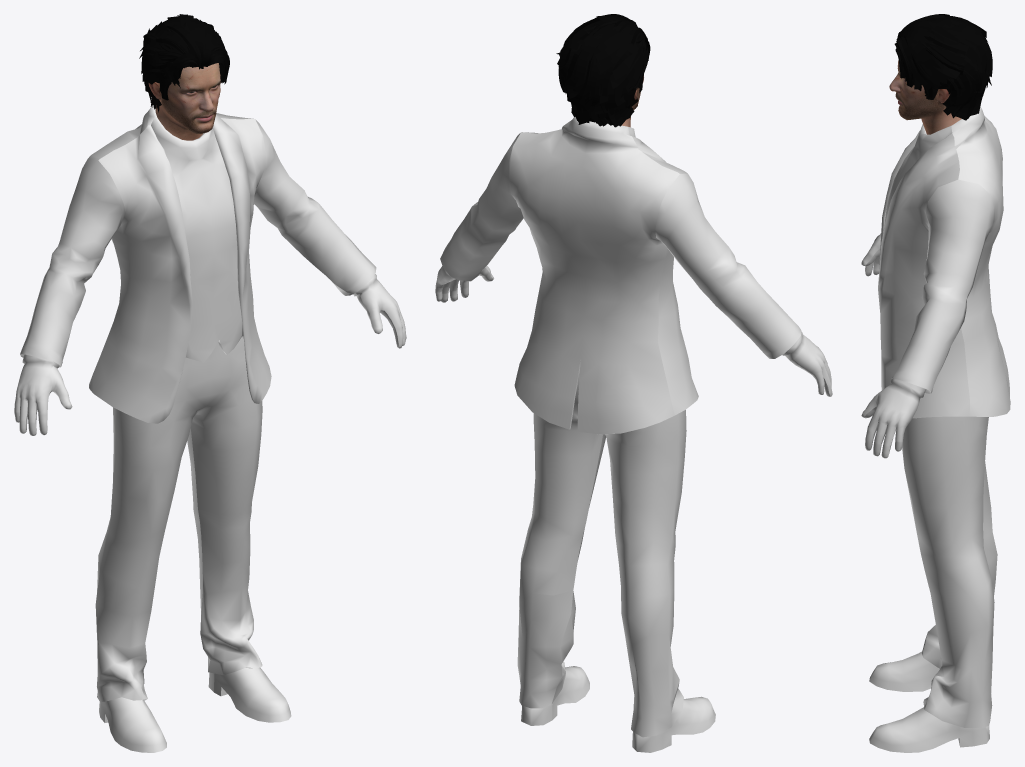
The picture shows the model from 3 angles, left to right: view 1: azimuth 30°, elevation 25°; view 2: azimuth 150°, elevation 25°; view 3: azimuth 270°, elevation 25°; orthographic projection.
Visible parts, largest first — view 1: Mesh_0049.rip, Mesh_0051.rip, Mesh_0269.rip, Mesh_0240.rip, Mesh_0171.rip; view 2: Mesh_0049.rip, Mesh_0051.rip, Mesh_0240.rip, Mesh_0269.rip; view 3: Mesh_0049.rip, Mesh_0051.rip, Mesh_0240.rip, Mesh_0269.rip, Mesh_0171.rip.
Part boxes in pixels (x1,y1,x2,y2): Mesh_0049.rip: (14,105,406,435); Mesh_0051.rip: (95,337,262,702); Mesh_0269.rip: (99,667,291,752); Mesh_0240.rip: (139,14,229,112); Mesh_0171.rip: (148,63,221,140); Mesh_0049.rip: (435,117,832,434); Mesh_0051.rip: (517,371,686,737); Mesh_0240.rip: (556,14,650,127); Mesh_0269.rip: (521,666,715,752); Mesh_0049.rip: (861,106,1010,458); Mesh_0051.rip: (902,416,997,727); Mesh_0240.rip: (894,14,992,120); Mesh_0269.rip: (869,651,989,752); Mesh_0171.rip: (889,60,961,134).
Size of the model in its own units: 7.18 by 12.3 by 2.4.
6 materials, 1 textured.
